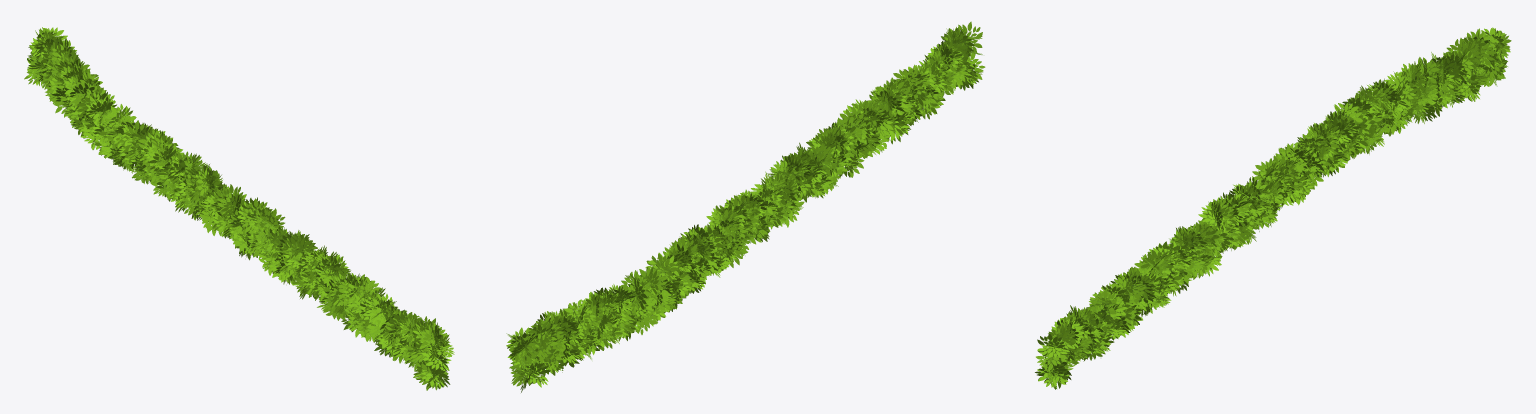
File: Hedge_Small.fbx
The picture shows the model from 3 angles, left to right: view 1: azimuth 30°, elevation 25°; view 2: azimuth 150°, elevation 25°; view 3: azimuth 330°, elevation 25°; orthographic projection. The views are drawn at different scales.
Parts seen in each view (by area): view 1: HEdge small; view 2: HEdge small; view 3: HEdge small.
Part boxes in pixels (box(x1,y1,x2,y2)): HEdge small: box(24, 27, 454, 390); HEdge small: box(506, 21, 985, 392); HEdge small: box(1035, 27, 1511, 389).
Size of the model in its own units: 393 by 364 by 3526.
Materials: 1 (1 with a texture image).
